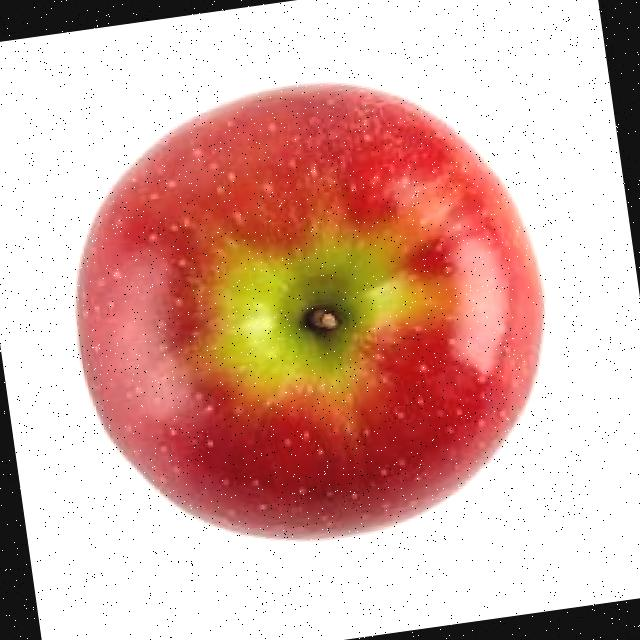apple: (42, 52, 576, 570)
